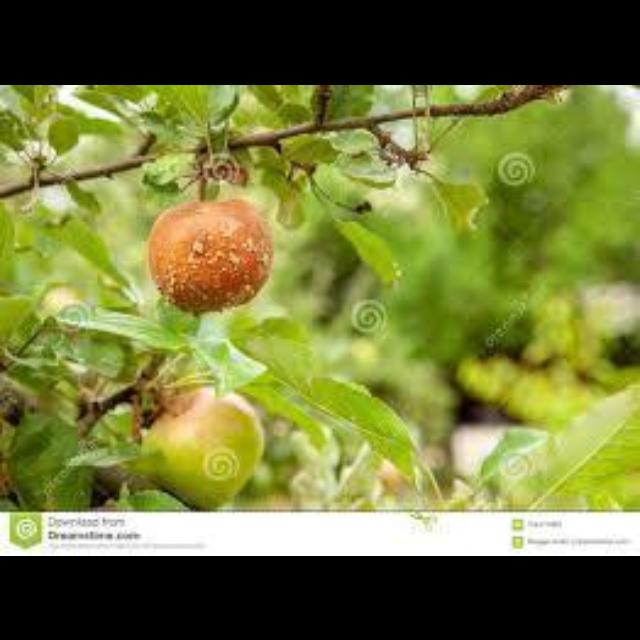apple: (147, 199, 271, 311)
rotten: (147, 199, 271, 311)
